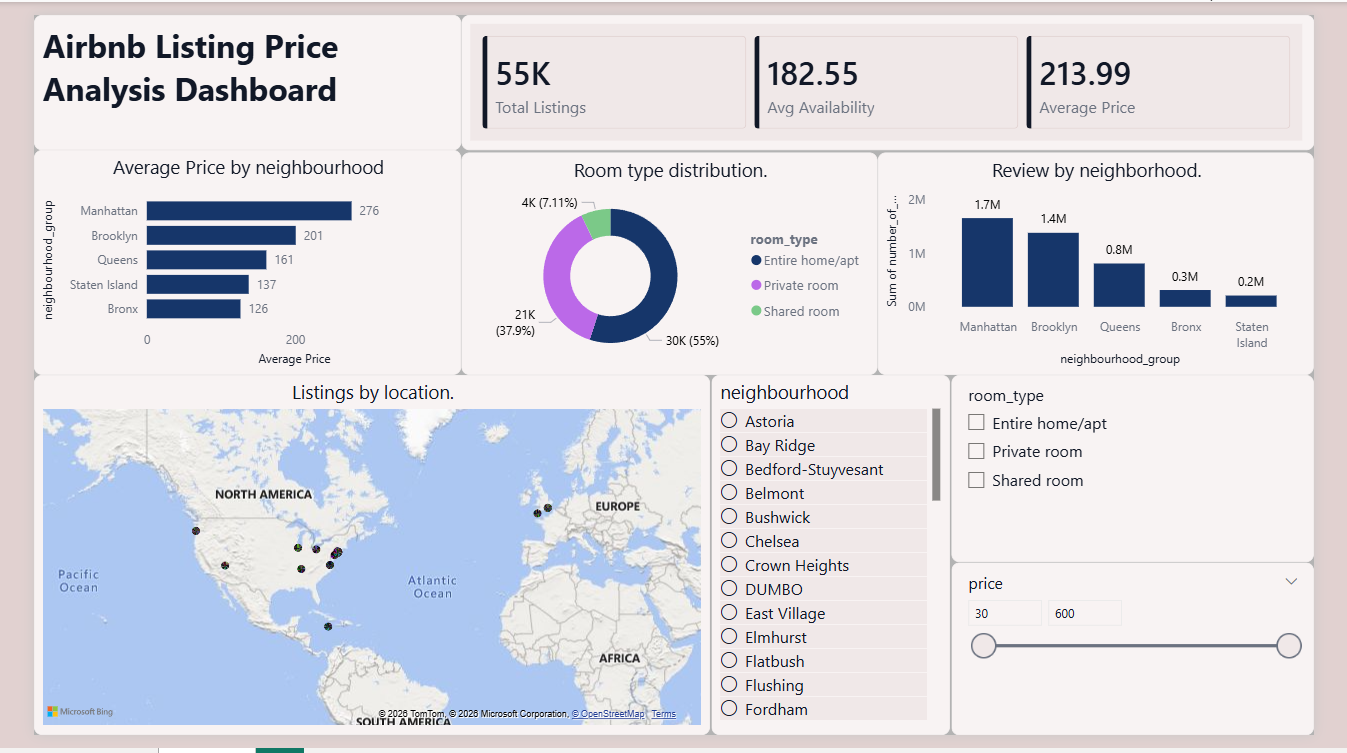

Layout of this report page (visuals, bound fields, positions):
{"tool":"powerbi","page":{"name":"Page 2","canvas":[1280,720],"ordinal":0},"visuals":[{"type":"cardVisual","fields":{"Data":["Dax.Total Listings","Dax.Avg Availability","Dax.Average Price"]},"box":[427.1,0,853,135.1],"z":0},{"type":"clusteredBarChart","title":"Average Price by neighbourhood","fields":{"Category":["Airbnb.neighbourhood_group"],"Y":["Dax.Average Price"]},"box":[0,135,427.5,225],"z":1},{"type":"donutChart","title":"Room type distribution.","fields":{"Category":["Airbnb.room_type"],"Y":["Dax.Total Listings"]},"box":[427.5,137.5,416.2,222.5],"z":2},{"type":"columnChart","title":"Review by neighborhood.","fields":{"Y":["Sum(Airbnb.number_of_reviews)"],"Category":["Airbnb.neighbourhood_group"]},"box":[843.8,137.5,436.2,222.5],"z":3},{"type":"map","title":"Listings by location.","fields":{"Category":["Airbnb.neighbourhood"],"Series":["Airbnb.id"]},"box":[0,360,676.2,360],"z":4},{"type":"listSlicer","fields":{"Values":["Airbnb.neighbourhood"]},"box":[677.5,360,238.8,360],"z":5},{"type":"slicer","fields":{"Values":["Airbnb.room_type"]},"box":[917.5,360,362.5,187.5],"z":6},{"type":"slicer","fields":{"Values":["Airbnb.price"]},"box":[917.5,547.5,362.5,172.5],"z":7},{"type":"textbox","box":[0,0,427.5,135],"z":8}]}

Visuals, with their boxes in screenshot pixels (x1, y1, x2, y2), scaled from the page's 1280x720 canvas onto the 1347x753 screenshot:
cardVisual - Dax.Total Listings x Dax.Avg Availability: 449,0,1346,141
"Average Price by neighbourhood" clusteredBarChart: 0,141,450,376
"Room type distribution." donutChart: 450,144,888,376
"Review by neighborhood." columnChart: 888,144,1346,376
"Listings by location." map: 0,376,712,752
listSlicer - Airbnb.neighbourhood: 713,376,964,752
slicer - Airbnb.room_type: 966,376,1346,573
slicer - Airbnb.price: 966,573,1346,752
textbox: 0,0,450,141
